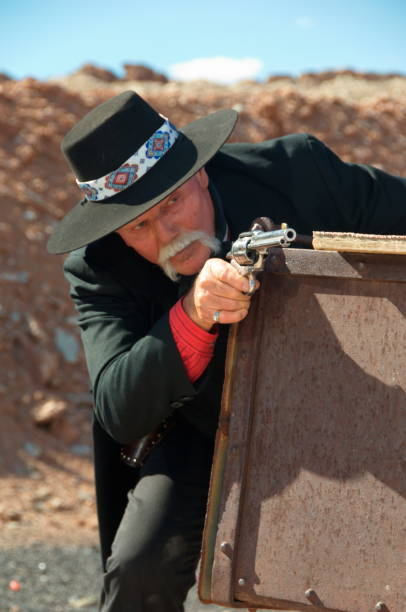gun: (226, 221, 298, 293)
